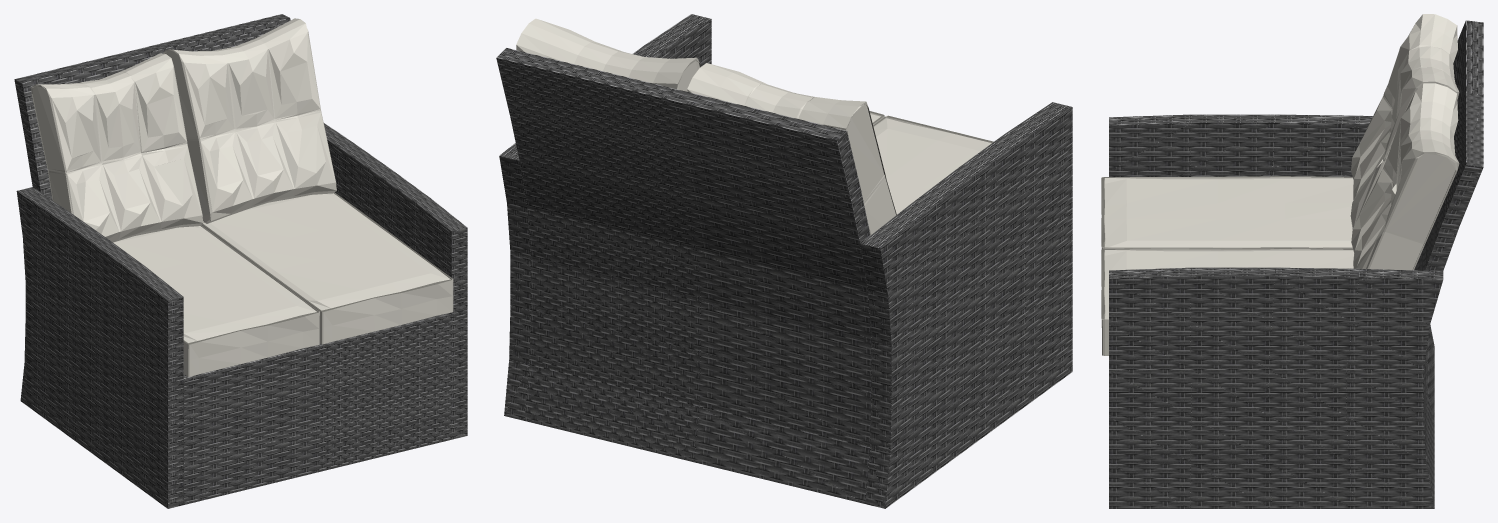
Rendered from sh-scopia-rattan-sofa.glb.
3 views of the same model, side by side, from view 1: azimuth 30°, elevation 25°; view 2: azimuth 150°, elevation 25°; view 3: azimuth 270°, elevation 25° (orthographic). The views are drawn at different scales.
Visible parts, largest first — view 1: sofa_Cube.001, baseCushion_Cube.002; view 2: sofa_Cube.001, baseCushion_Cube.002; view 3: sofa_Cube.001, baseCushion_Cube.002.
Part boxes in pixels (x1,y1,x2,y2): sofa_Cube.001: (14, 14, 467, 508); baseCushion_Cube.002: (31, 18, 453, 376); sofa_Cube.001: (496, 14, 1072, 508); baseCushion_Cube.002: (516, 18, 993, 235); sofa_Cube.001: (1109, 20, 1483, 508); baseCushion_Cube.002: (1101, 14, 1459, 355).
Bounding box in the file's own units: 1 × 1 × 1.
3 materials, 1 textured.
